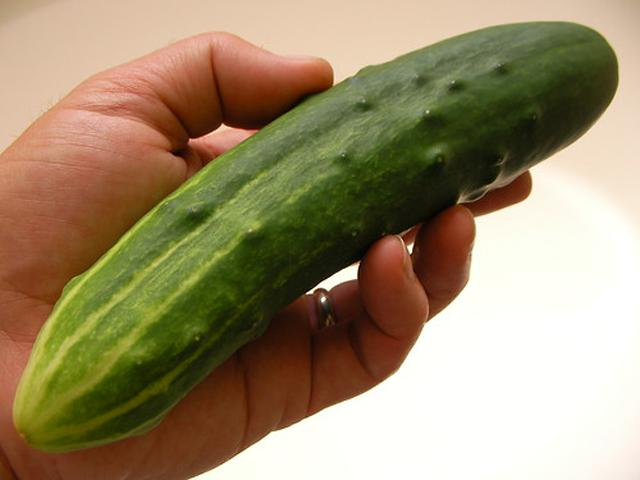cucumber: (15, 23, 618, 452)
